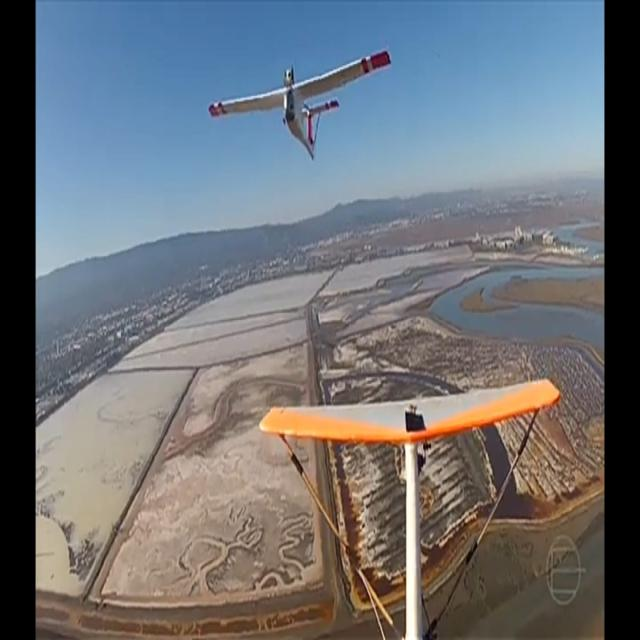iha: (208, 16, 392, 67)
